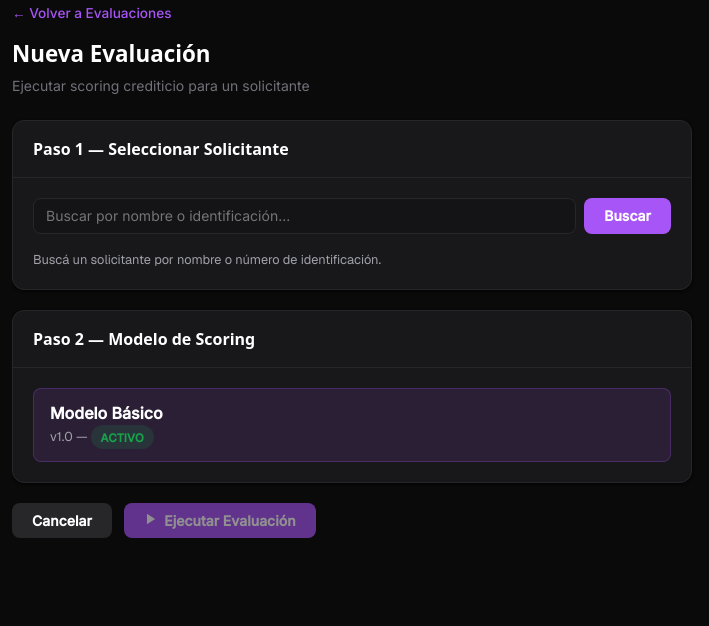
Test case: NewEvaluation — Cambiar button › resets selected applicant and shows search form again
This screenshot has width=709, height=626.
Type "Maria" into the field with placeholder "Buscar por nombre o identificación..." at (305, 216), box [33,198,576,234]
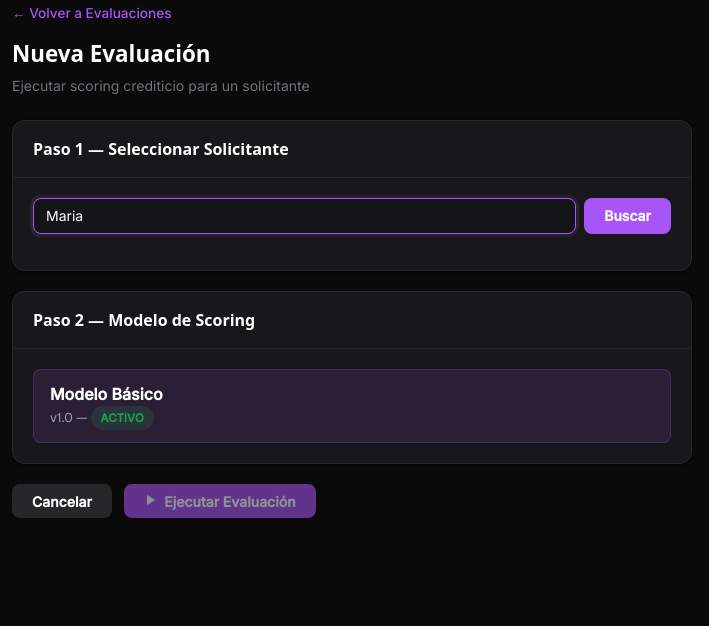
Click the button "Buscar" at (628, 216), box [584,198,671,234]
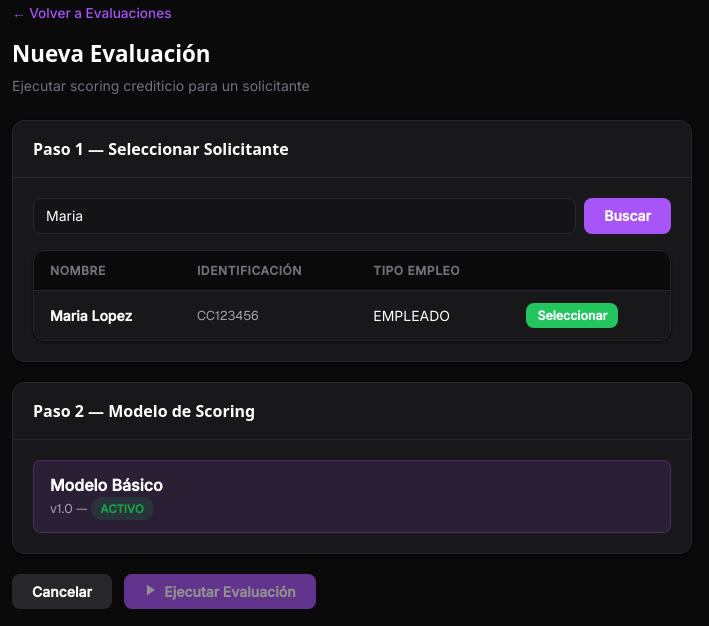
Now the button "Seleccionar" is shown
Click the button "Seleccionar" at (572, 315), box [526,303,618,328]
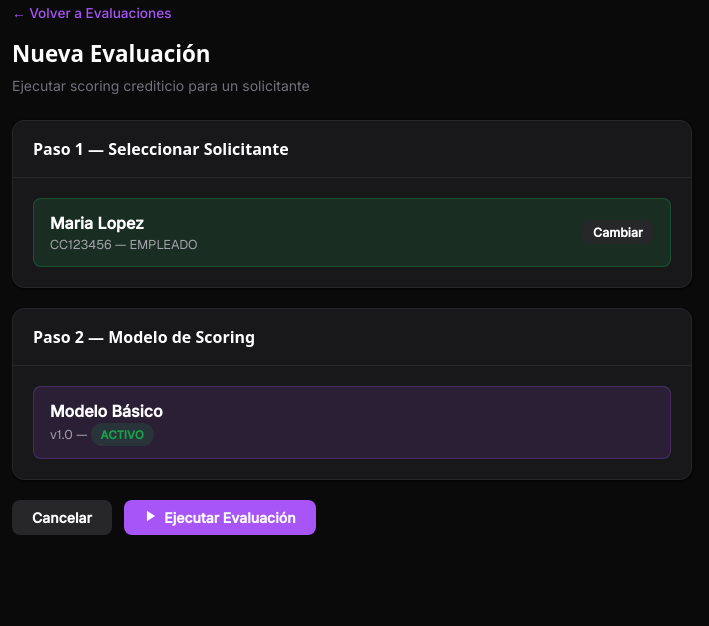
Now the text "Maria Lopez" is shown, box [50,213,144,233]
Click the button "Cambiar" at (618, 232), box [582,220,654,244]
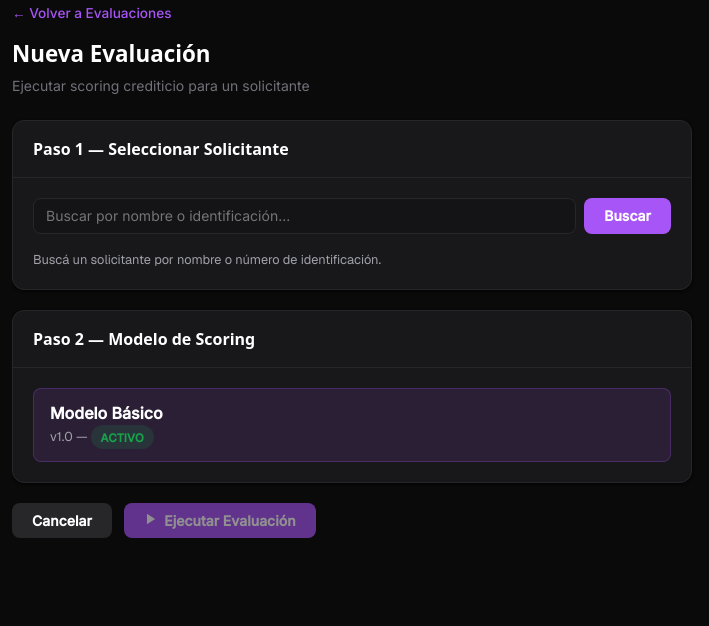
Now the text "Maria Lopez" is gone
Now the field with placeholder "Buscar por nombre o identificación..." is shown, box [33,198,576,234]
